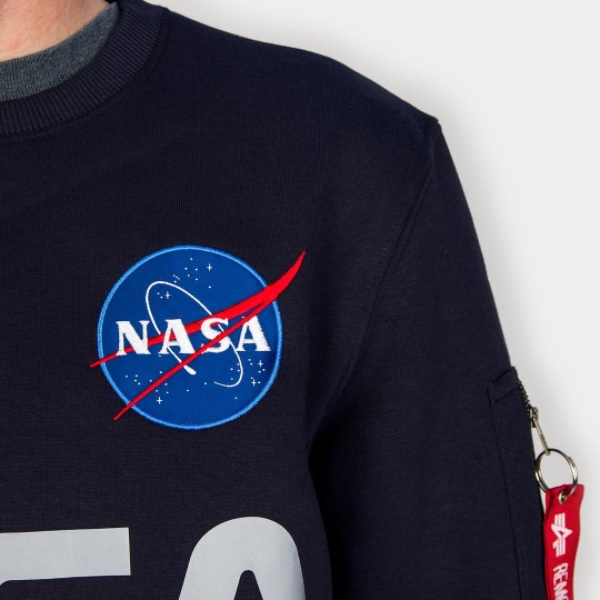NASA: (91, 239, 306, 430)
